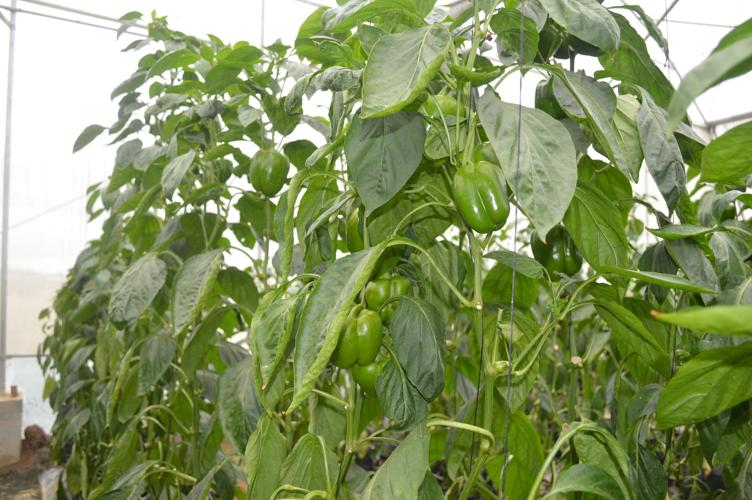BellPepper: (454, 162, 507, 232), (330, 310, 379, 365), (532, 229, 579, 280), (247, 150, 288, 197), (357, 276, 404, 313), (347, 363, 381, 391)
